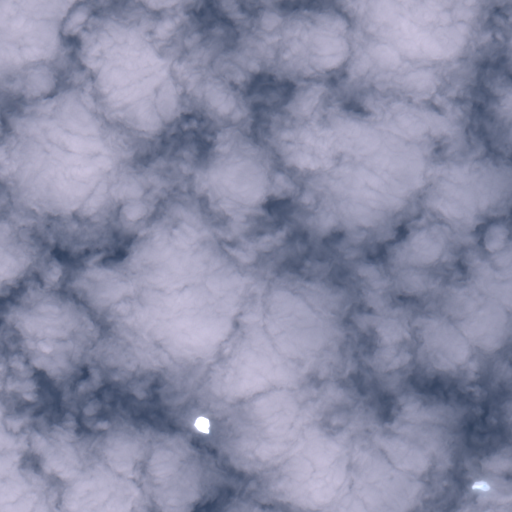Iceberg: (194, 416, 209, 433), (472, 481, 489, 490)
